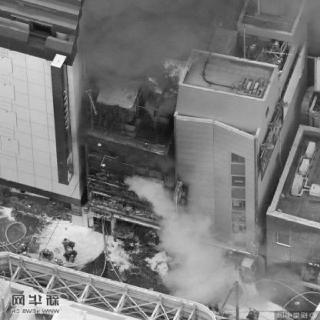Fire: (165, 59, 187, 87), (148, 74, 160, 94)
Smoke: (80, 1, 204, 57), (161, 206, 221, 296), (128, 170, 168, 203)
